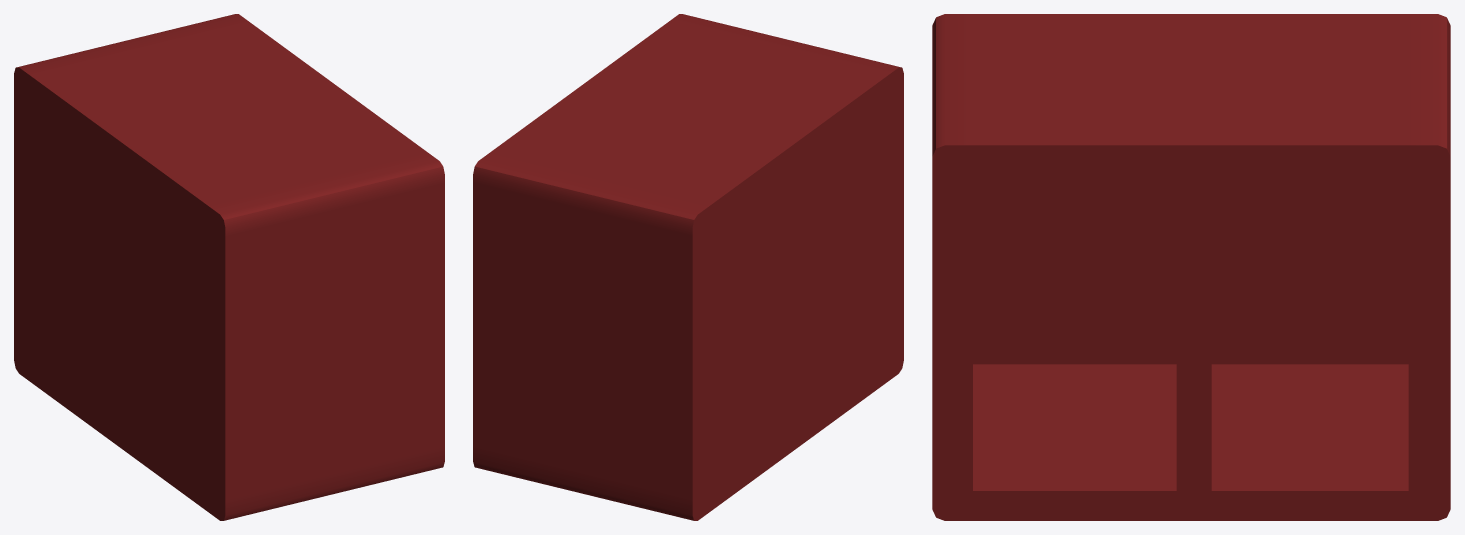
The model's file is Battery_Panel_Compartment.fbx.
The picture shows the model from 3 angles, left to right: view 1: azimuth 30°, elevation 25°; view 2: azimuth 150°, elevation 25°; view 3: azimuth 270°, elevation 25°; orthographic projection. The views are drawn at different scales.
Visible parts, largest first — view 1: Battery_Panel; view 2: Battery_Panel; view 3: Battery_Panel.
Boxes of the visible parts, <box> form: Battery_Panel: <box>14,14,444,520</box>; Battery_Panel: <box>473,14,903,520</box>; Battery_Panel: <box>932,14,1450,520</box>.
Bounding box in the file's own units: 3 × 4 × 5.
